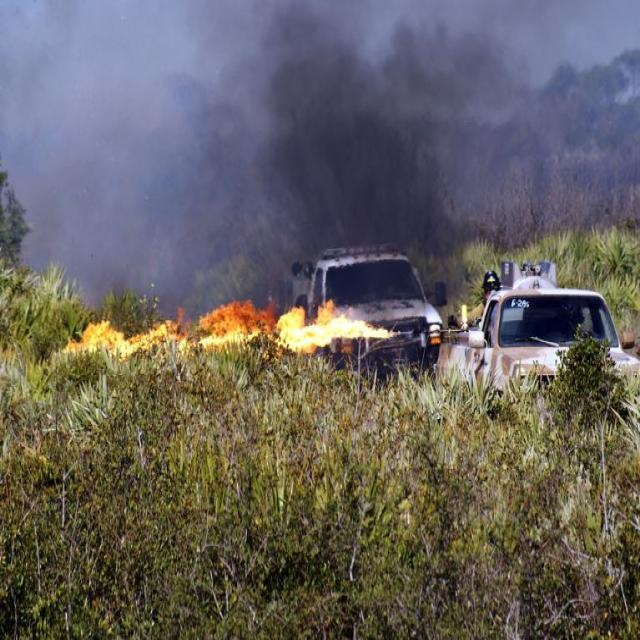Fire: (277, 300, 394, 354), (64, 320, 186, 362), (198, 300, 276, 338)
Smoke: (262, 0, 637, 289), (5, 0, 257, 282)
